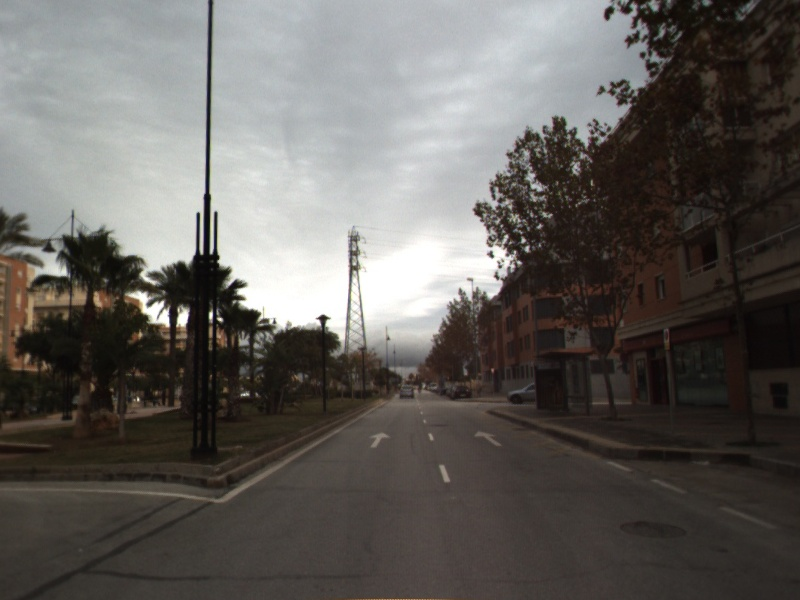STRAIGHT: (472, 428, 504, 448), (367, 430, 393, 450)
